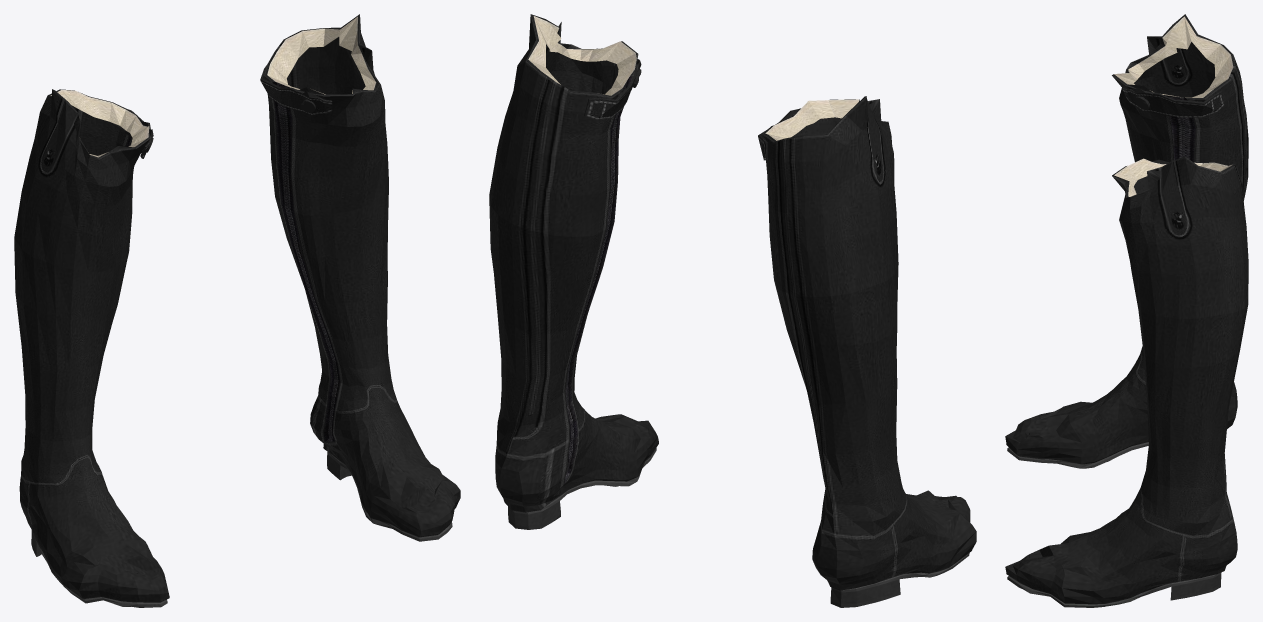
Rendered from mhw_punkduck_riding_boots.glb.
3 views of the same model, side by side, from view 1: azimuth 30°, elevation 25°; view 2: azimuth 150°, elevation 25°; view 3: azimuth 270°, elevation 25° (orthographic). The views are drawn at different scales.
Parts seen in each view (by area): view 1: mhw_punkduck_riding_boots; view 2: mhw_punkduck_riding_boots; view 3: mhw_punkduck_riding_boots.
Boxes of the visible parts, x1=… form: mhw_punkduck_riding_boots: x1=14, y1=14, x2=460, y2=607; mhw_punkduck_riding_boots: x1=489, y1=14, x2=976, y2=607; mhw_punkduck_riding_boots: x1=1005, y1=14, x2=1248, y2=607.
Bounding box in the file's own units: 0.5431 × 0.6275 × 0.3161.
1 material, 1 textured.
